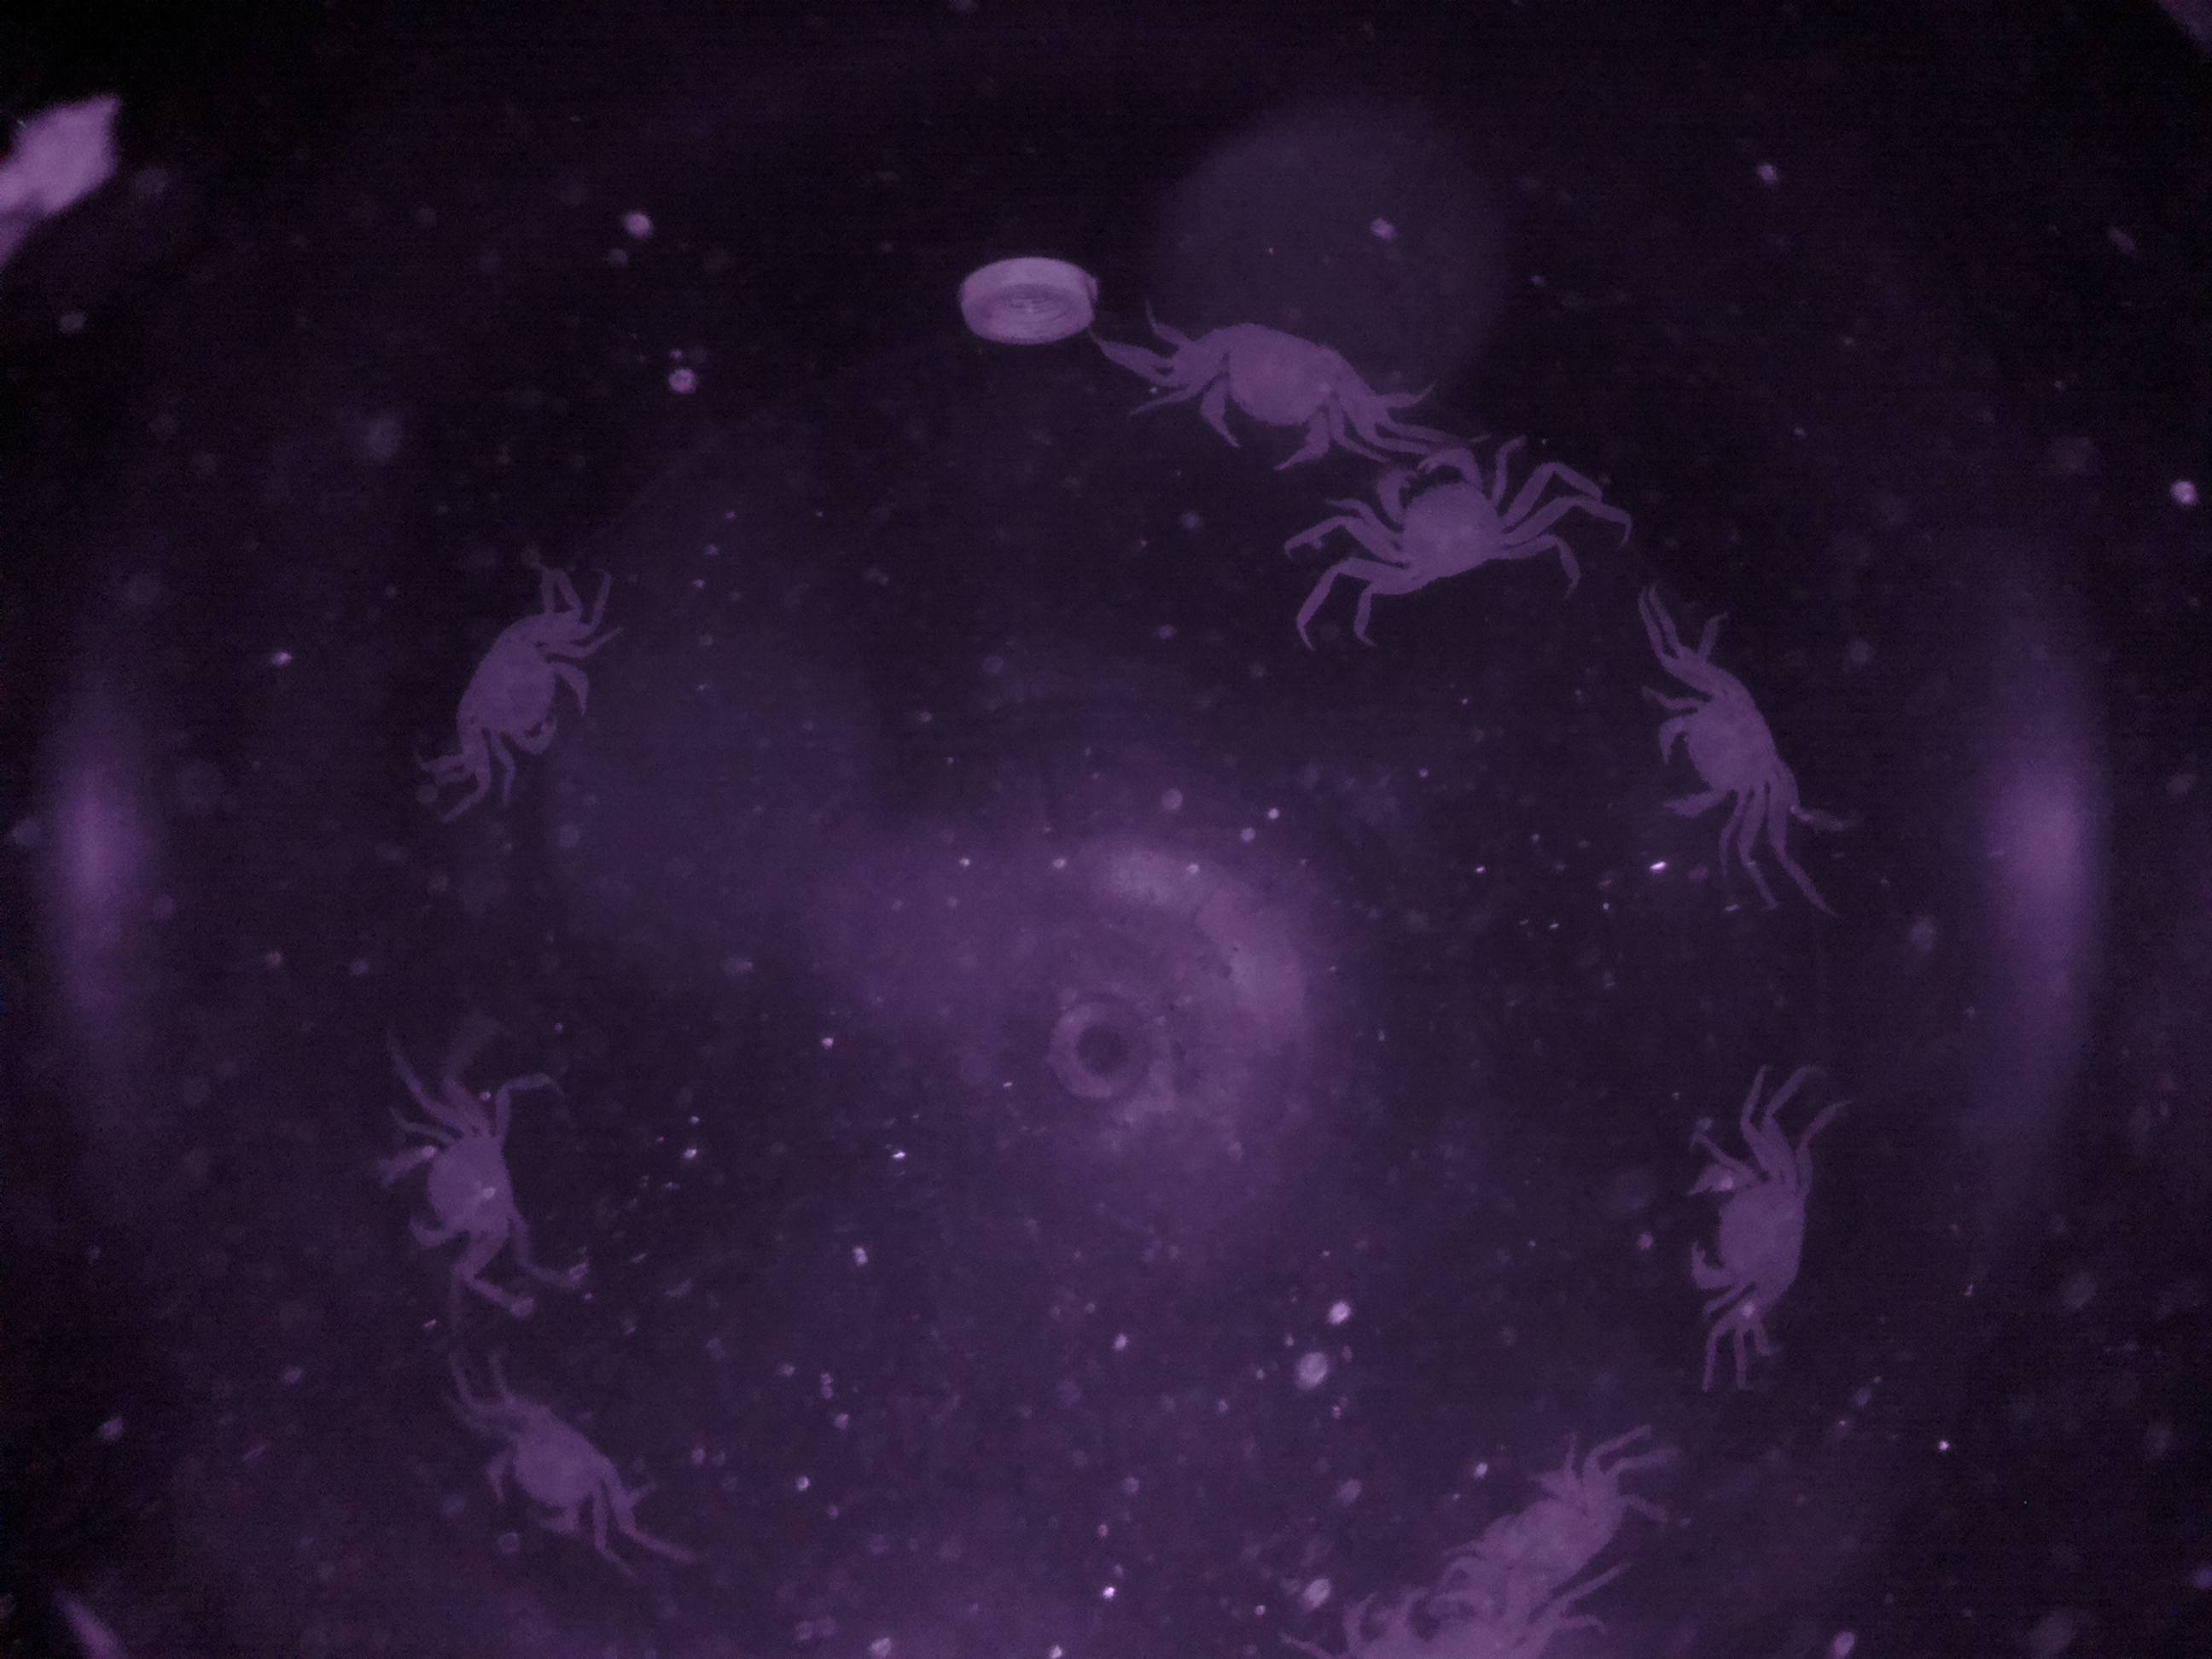Crab: (1155, 305, 1379, 484), (362, 1079, 556, 1281), (1658, 1141, 1836, 1342), (1346, 429, 1531, 615), (1644, 660, 1827, 849), (435, 606, 606, 788), (470, 1378, 643, 1556)
